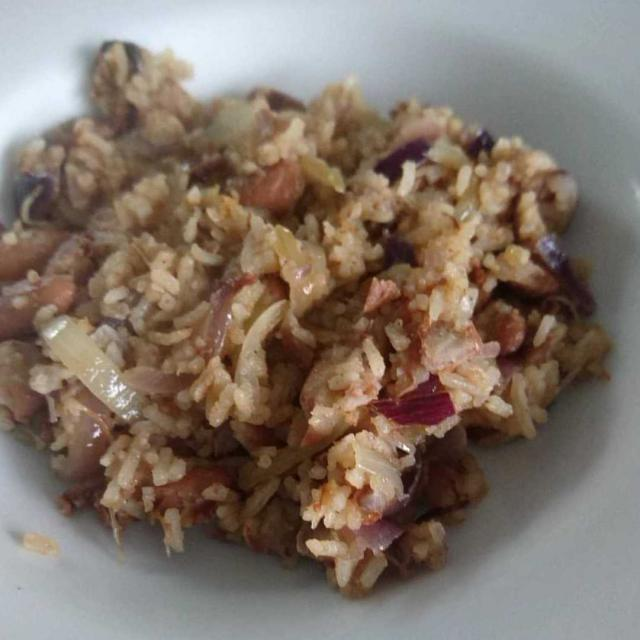rice: (12, 52, 604, 580)
